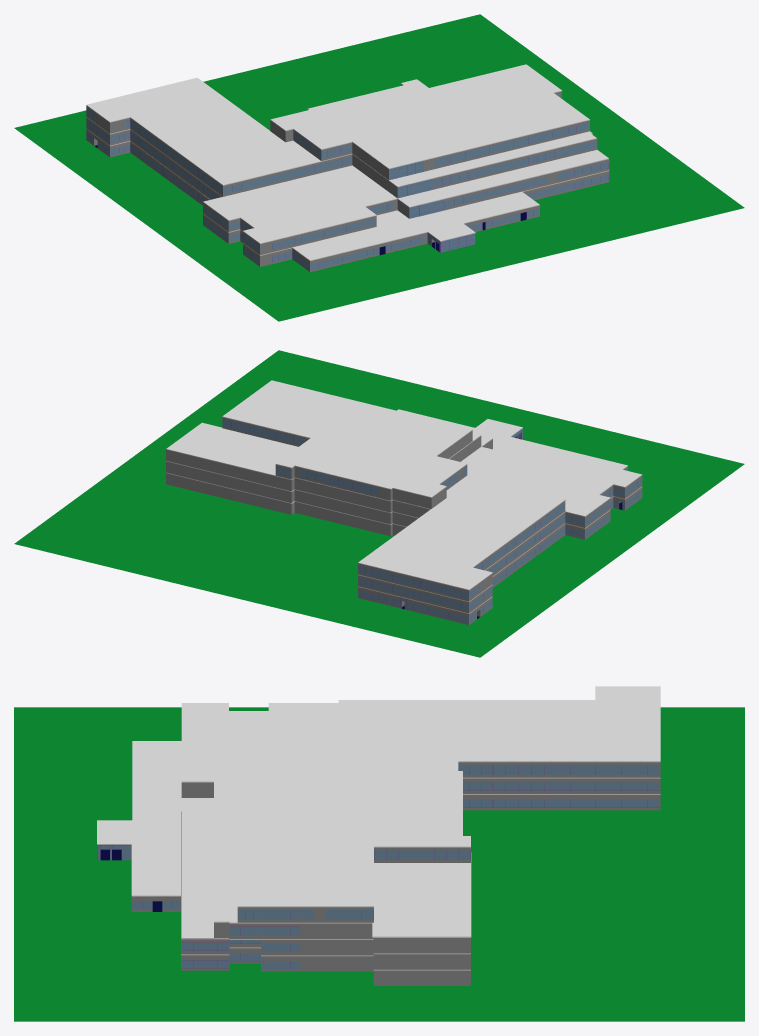
The model's file is usuLibrary.fbx.
3 renders of one model, top to bottom at view 1: azimuth 30°, elevation 25°; view 2: azimuth 150°, elevation 25°; view 3: azimuth 270°, elevation 25°, orthographic. The views are drawn at different scales.
Parts seen in each view (by area): view 1: LandScape, BuildingShell, BuildingShell.003, Ceiling.003, BuildingShell.002, BuildingShell.001; view 2: LandScape, BuildingShell, BuildingShell.003, Ceiling.003, BuildingShell.002, BuildingShell.001; view 3: LandScape, BuildingShell.003, Ceiling.003, BuildingShell, BuildingShell.002, BuildingShell.001.
Boxes of the visible parts, box(x1,y1,x2,y2) form: LandScape: box(14, 14, 744, 321); BuildingShell: box(86, 84, 609, 272); BuildingShell.003: box(86, 64, 596, 187); Ceiling.003: box(270, 79, 589, 168); BuildingShell.002: box(86, 117, 608, 243); BuildingShell.001: box(86, 128, 609, 260); LandScape: box(14, 350, 744, 657); BuildingShell: box(166, 417, 642, 624); BuildingShell.003: box(166, 422, 565, 590); Ceiling.003: box(222, 380, 472, 497); BuildingShell.002: box(166, 435, 642, 601); BuildingShell.001: box(166, 409, 642, 613); LandScape: box(14, 707, 744, 1021); BuildingShell.003: box(214, 686, 660, 937); Ceiling.003: box(237, 745, 470, 907); BuildingShell: box(97, 762, 660, 985); BuildingShell.002: box(181, 703, 660, 954); BuildingShell.001: box(97, 741, 660, 970).
Bounding box in the file's own units: 13205 × 1605 × 12985.
